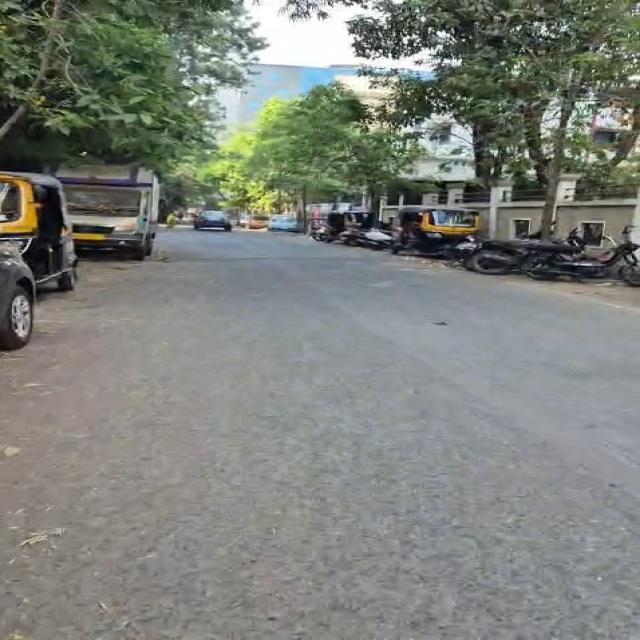obstacle: (57, 165, 160, 260)
vehical: (0, 172, 77, 290), (521, 227, 639, 286), (465, 232, 583, 274), (393, 205, 479, 255), (0, 244, 36, 350), (444, 235, 483, 268), (342, 228, 393, 249), (193, 211, 232, 231), (363, 229, 393, 250), (341, 227, 365, 246), (268, 216, 298, 231), (311, 224, 328, 241), (167, 214, 178, 228)
